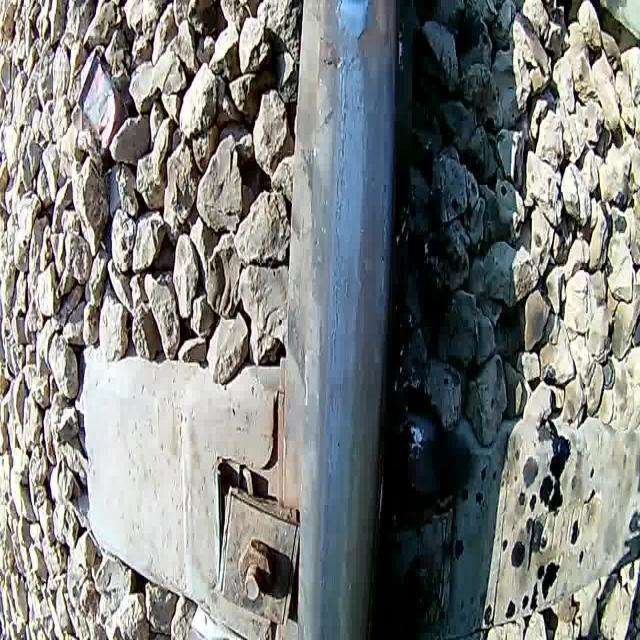Spallings: (314, 46, 350, 83)
Squats: (352, 0, 410, 73)
